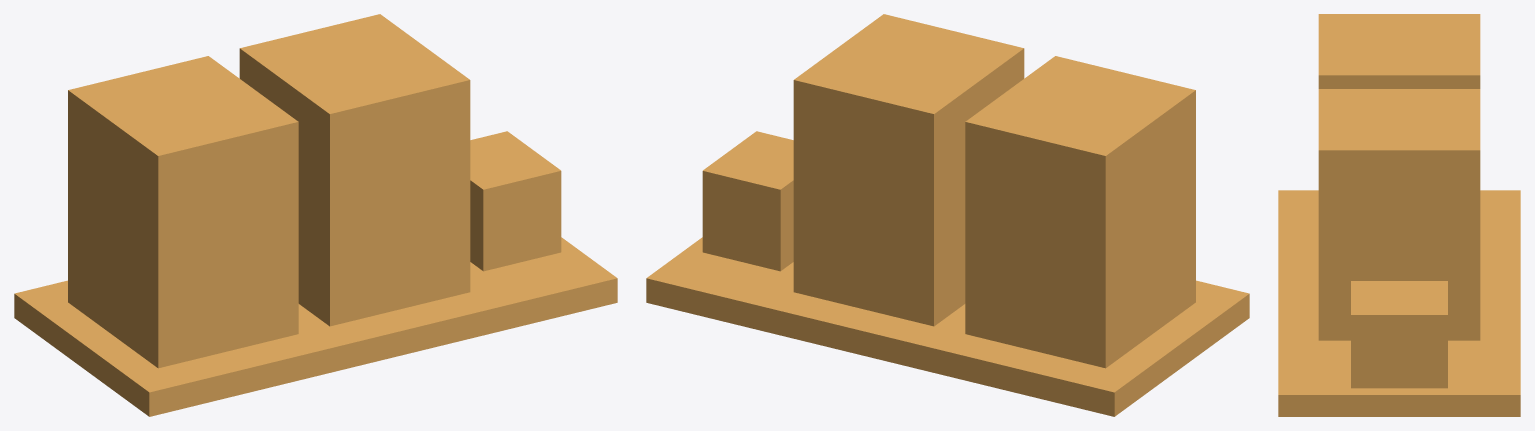
Rendered from pump-skid.glb.
3 views of the same model, side by side, from view 1: azimuth 30°, elevation 25°; view 2: azimuth 150°, elevation 25°; view 3: azimuth 270°, elevation 25° (orthographic). The views are drawn at different scales.
Bounding box in the file's own units: 6 × 2.9 × 3.
